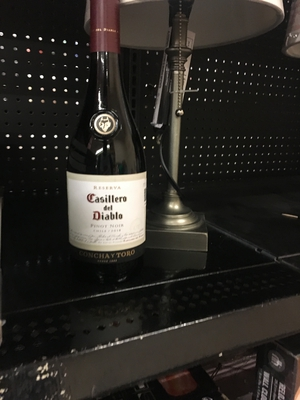casillero del diablo pinot noir: (41, 11, 176, 296)
